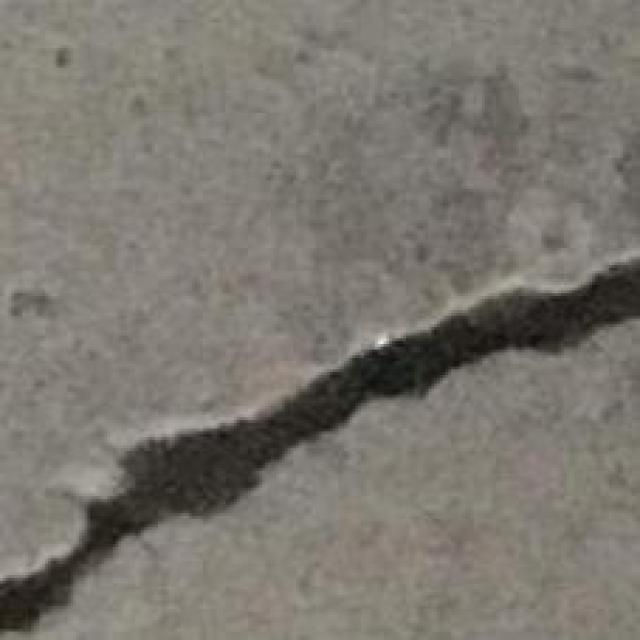Crack: (0, 259, 640, 635)
